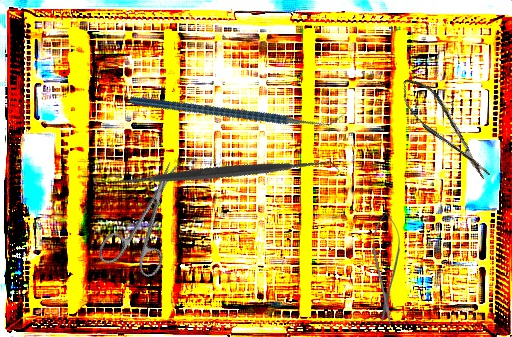Chopper: (128, 27, 346, 191)
Iris Scissors: (95, 150, 204, 285)
Micro Scissor: (393, 70, 497, 189), (372, 212, 400, 324)
Spatula Surgical: (105, 55, 341, 290)
